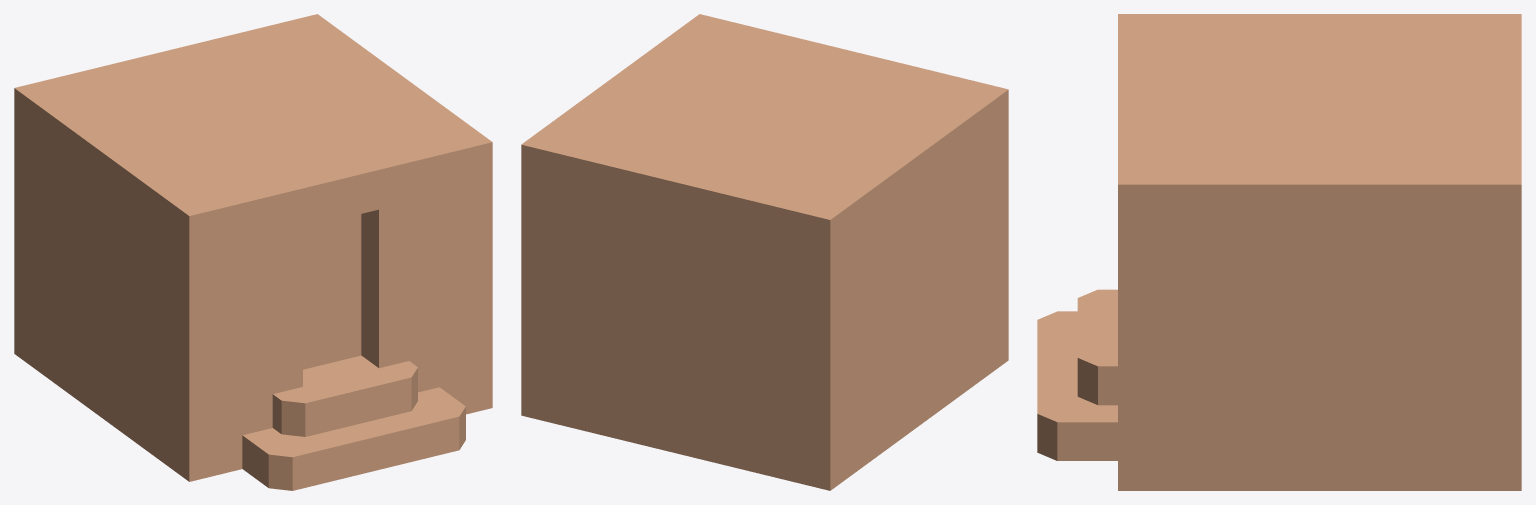
Rendered from building-steps-wide.obj.
The picture shows the model from 3 angles, left to right: view 1: azimuth 30°, elevation 25°; view 2: azimuth 150°, elevation 25°; view 3: azimuth 270°, elevation 25°; orthographic projection. The views are drawn at different scales.
Size of the model in its own units: 1 by 0.8375 by 1.2.
